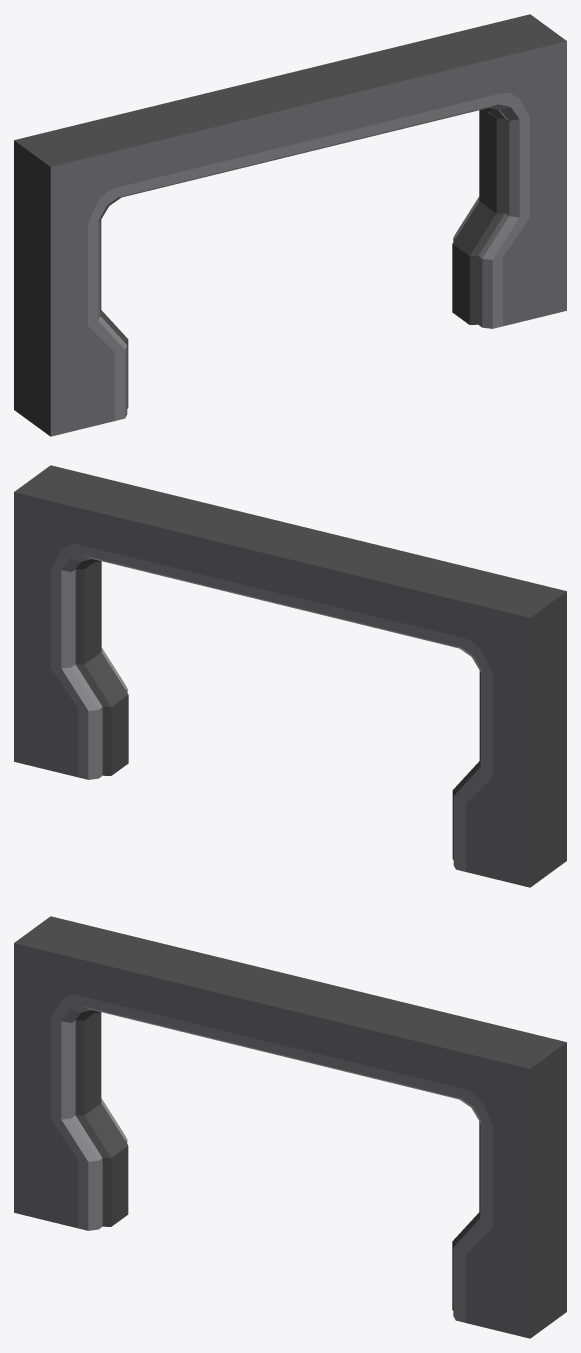
Rendered from SM_Bld_Corridor_Double_Arch_01.fbx.
3 views of the same model, one above another, from view 1: azimuth 30°, elevation 25°; view 2: azimuth 150°, elevation 25°; view 3: azimuth 330°, elevation 25° (orthographic).
Parts seen in each view (by area): view 1: SM_Bld_Corridor_Double_Arch_01_LOD0; view 2: SM_Bld_Corridor_Double_Arch_01_LOD0; view 3: SM_Bld_Corridor_Double_Arch_01_LOD0.
Part boxes in pixels (x1,y1,x2,y2): SM_Bld_Corridor_Double_Arch_01_LOD0: (14,14,566,436); SM_Bld_Corridor_Double_Arch_01_LOD0: (14,465,566,887); SM_Bld_Corridor_Double_Arch_01_LOD0: (14,916,566,1338).
Size of the model in its own units: 122 by 990 by 494.
Materials: 1 (1 with a texture image).
